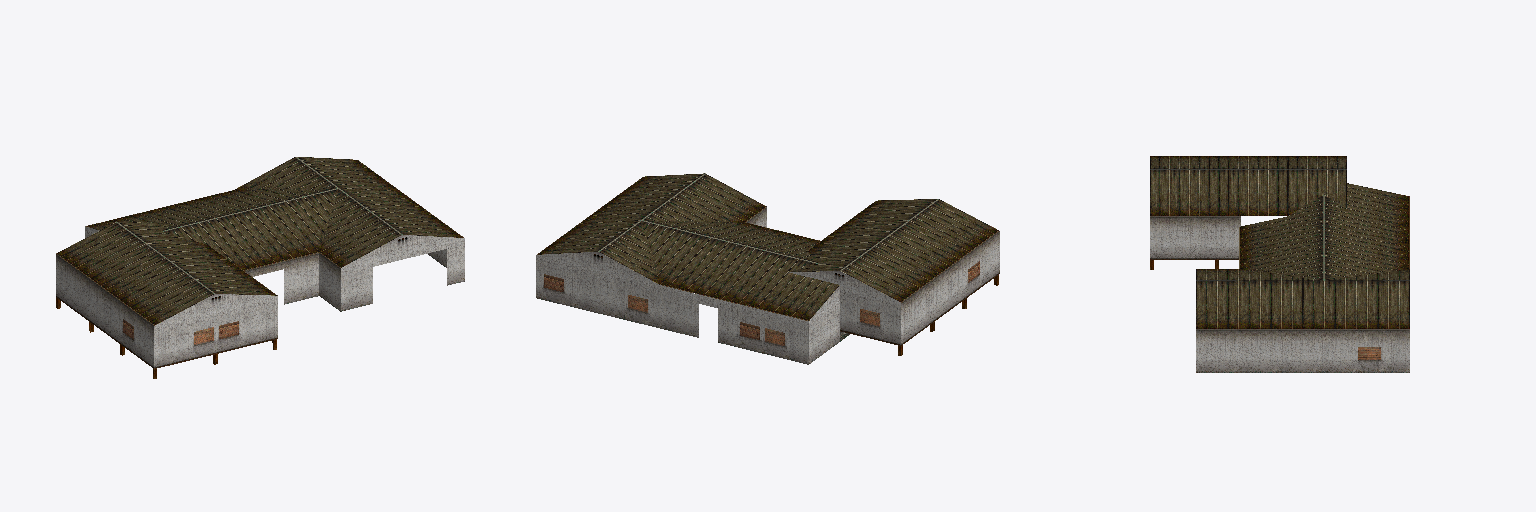
3 renders of one model, left to right at view 1: azimuth 30°, elevation 25°; view 2: azimuth 150°, elevation 25°; view 3: azimuth 270°, elevation 25°, orthographic.
Visible parts, largest first — view 1: Swuhouseoutside-00.Swuhouseoutside-00_Swuhouseoutside-00; view 2: Swuhouseoutside-00.Swuhouseoutside-00_Swuhouseoutside-00; view 3: Swuhouseoutside-00.Swuhouseoutside-00_Swuhouseoutside-00.
Boxes of the visible parts, x1,y1,x2,y2 form: Swuhouseoutside-00.Swuhouseoutside-00_Swuhouseoutside-00: [56, 157, 464, 378]; Swuhouseoutside-00.Swuhouseoutside-00_Swuhouseoutside-00: [536, 173, 999, 364]; Swuhouseoutside-00.Swuhouseoutside-00_Swuhouseoutside-00: [1150, 156, 1409, 372].
Bounding box in the file's own units: 2 × 0.4063 × 1.35.
Materials: 16 (16 with a texture image).